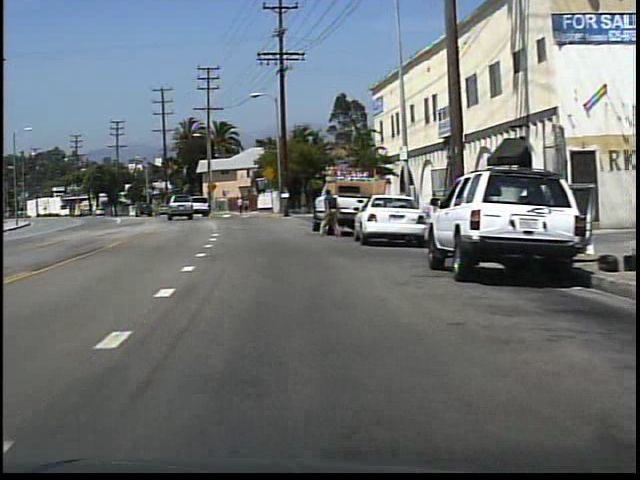person: (318, 185, 341, 241), (234, 196, 244, 217), (241, 197, 251, 215)
